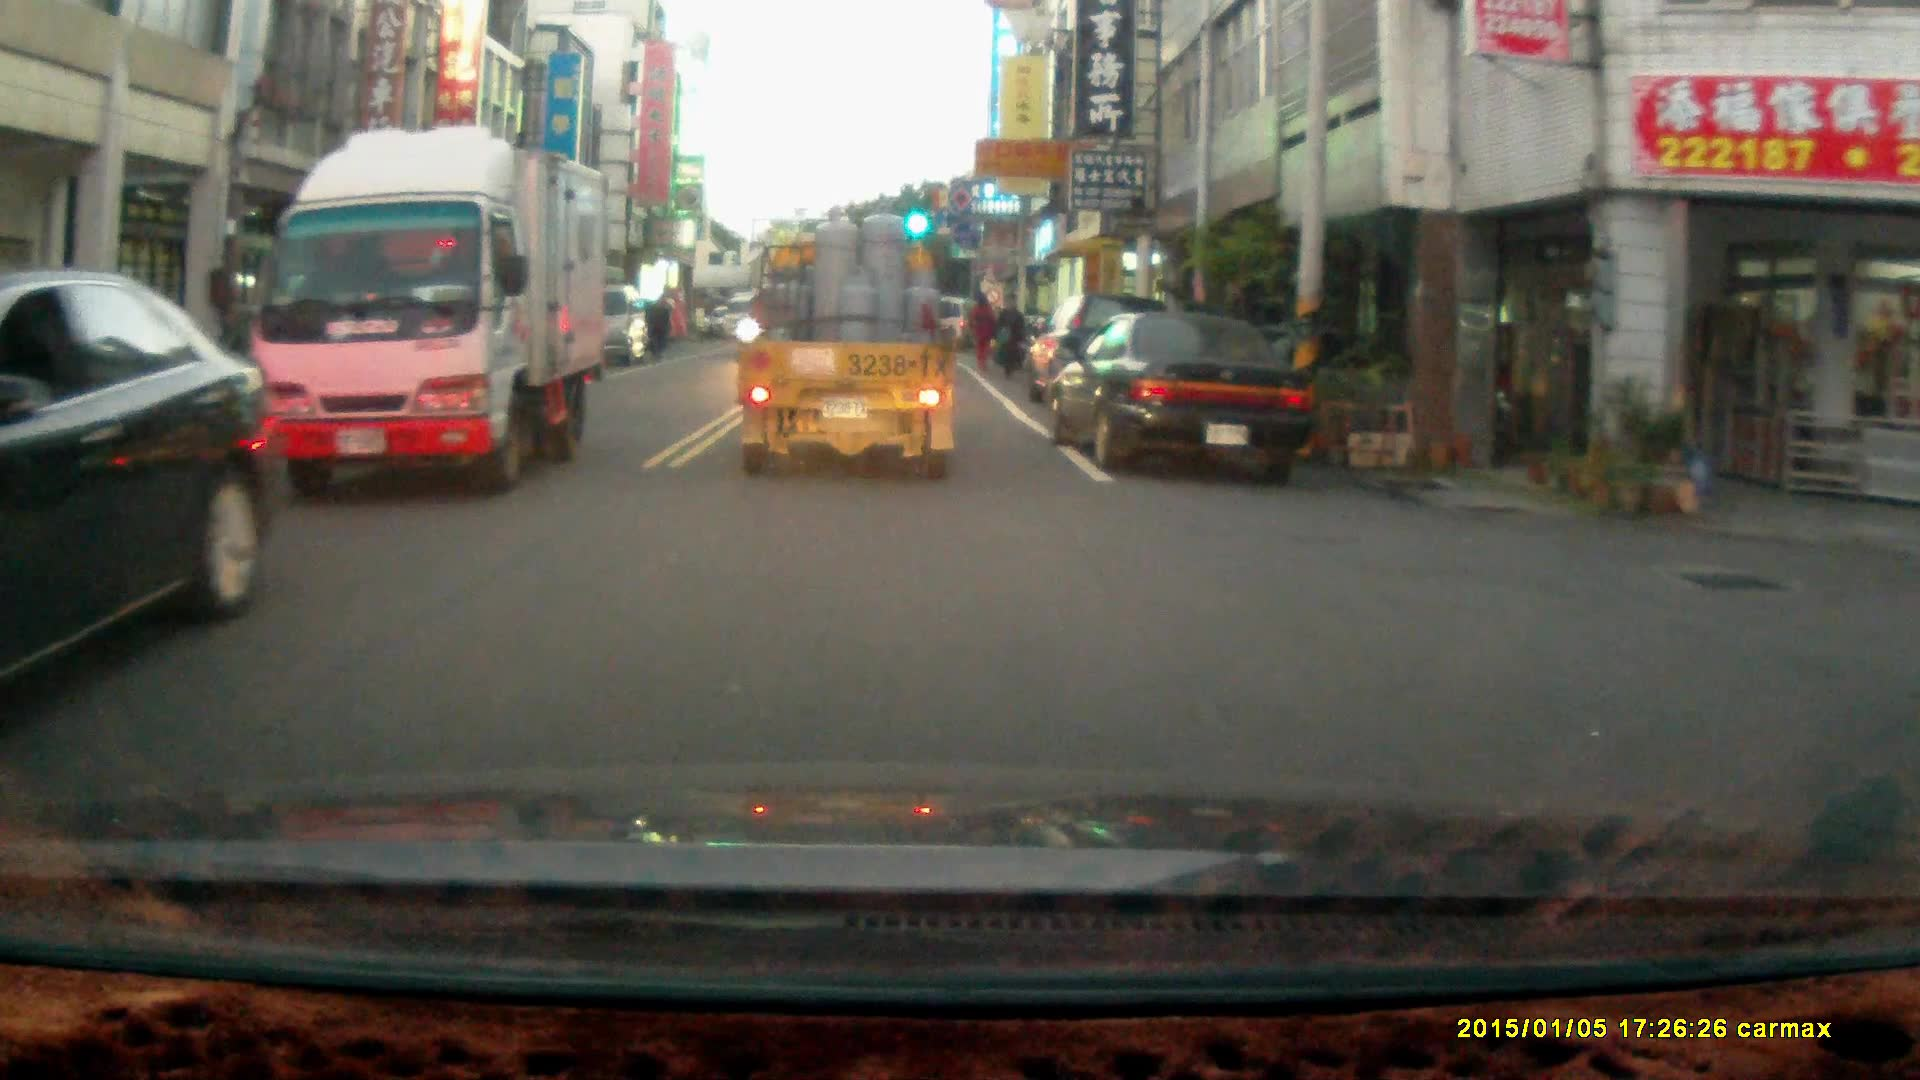pedestrian: (990, 292, 1023, 383), (963, 288, 995, 367), (641, 295, 672, 362)
vehicle: (249, 128, 610, 502), (1, 267, 282, 717), (730, 192, 965, 484), (1052, 308, 1316, 478)
